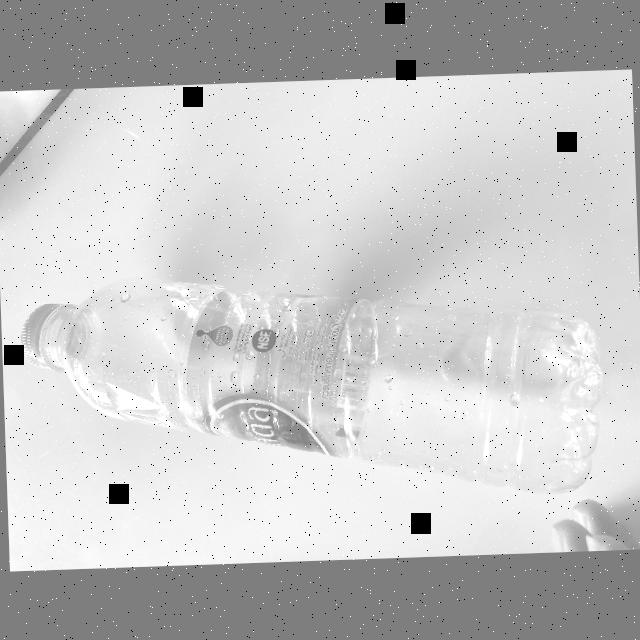plastic_bottle: (10, 255, 611, 518)
